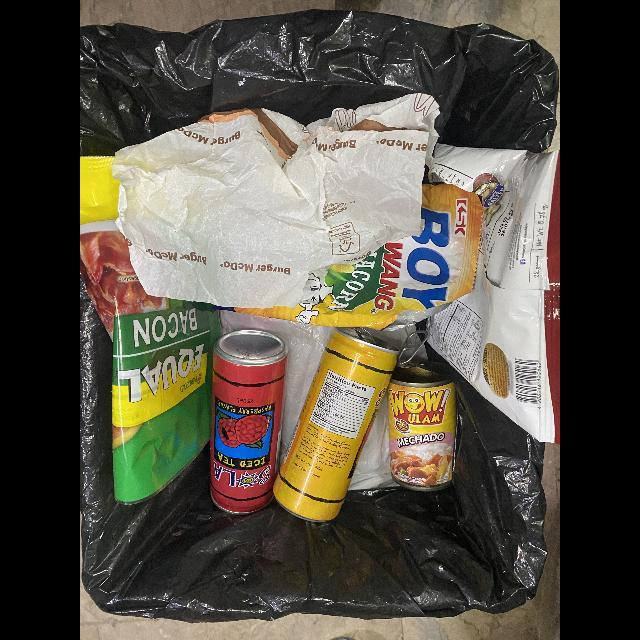metal: (273, 327, 399, 523), (209, 329, 288, 517), (387, 328, 457, 493)
paper: (110, 93, 440, 309)
wrapper: (80, 155, 222, 505), (426, 143, 560, 446), (213, 183, 484, 331)
